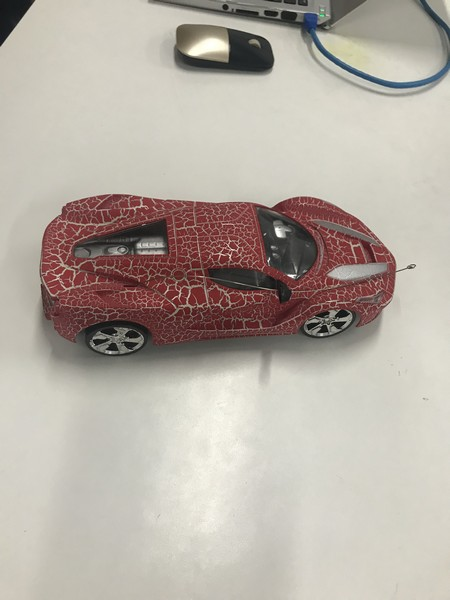RC: (36, 192, 398, 358)
